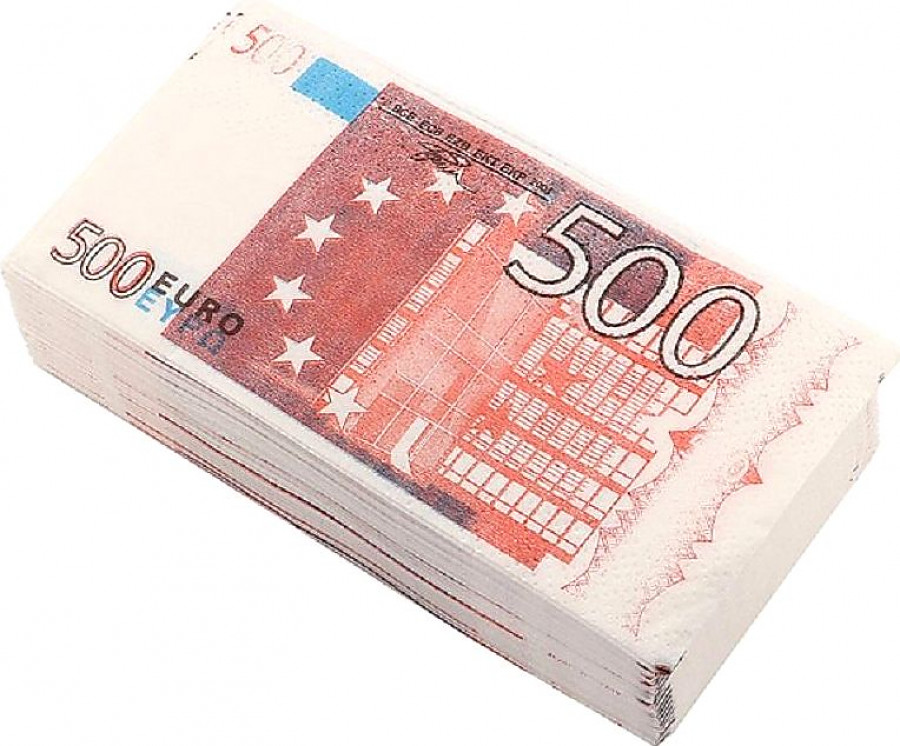cash: (1, 1, 896, 675)
